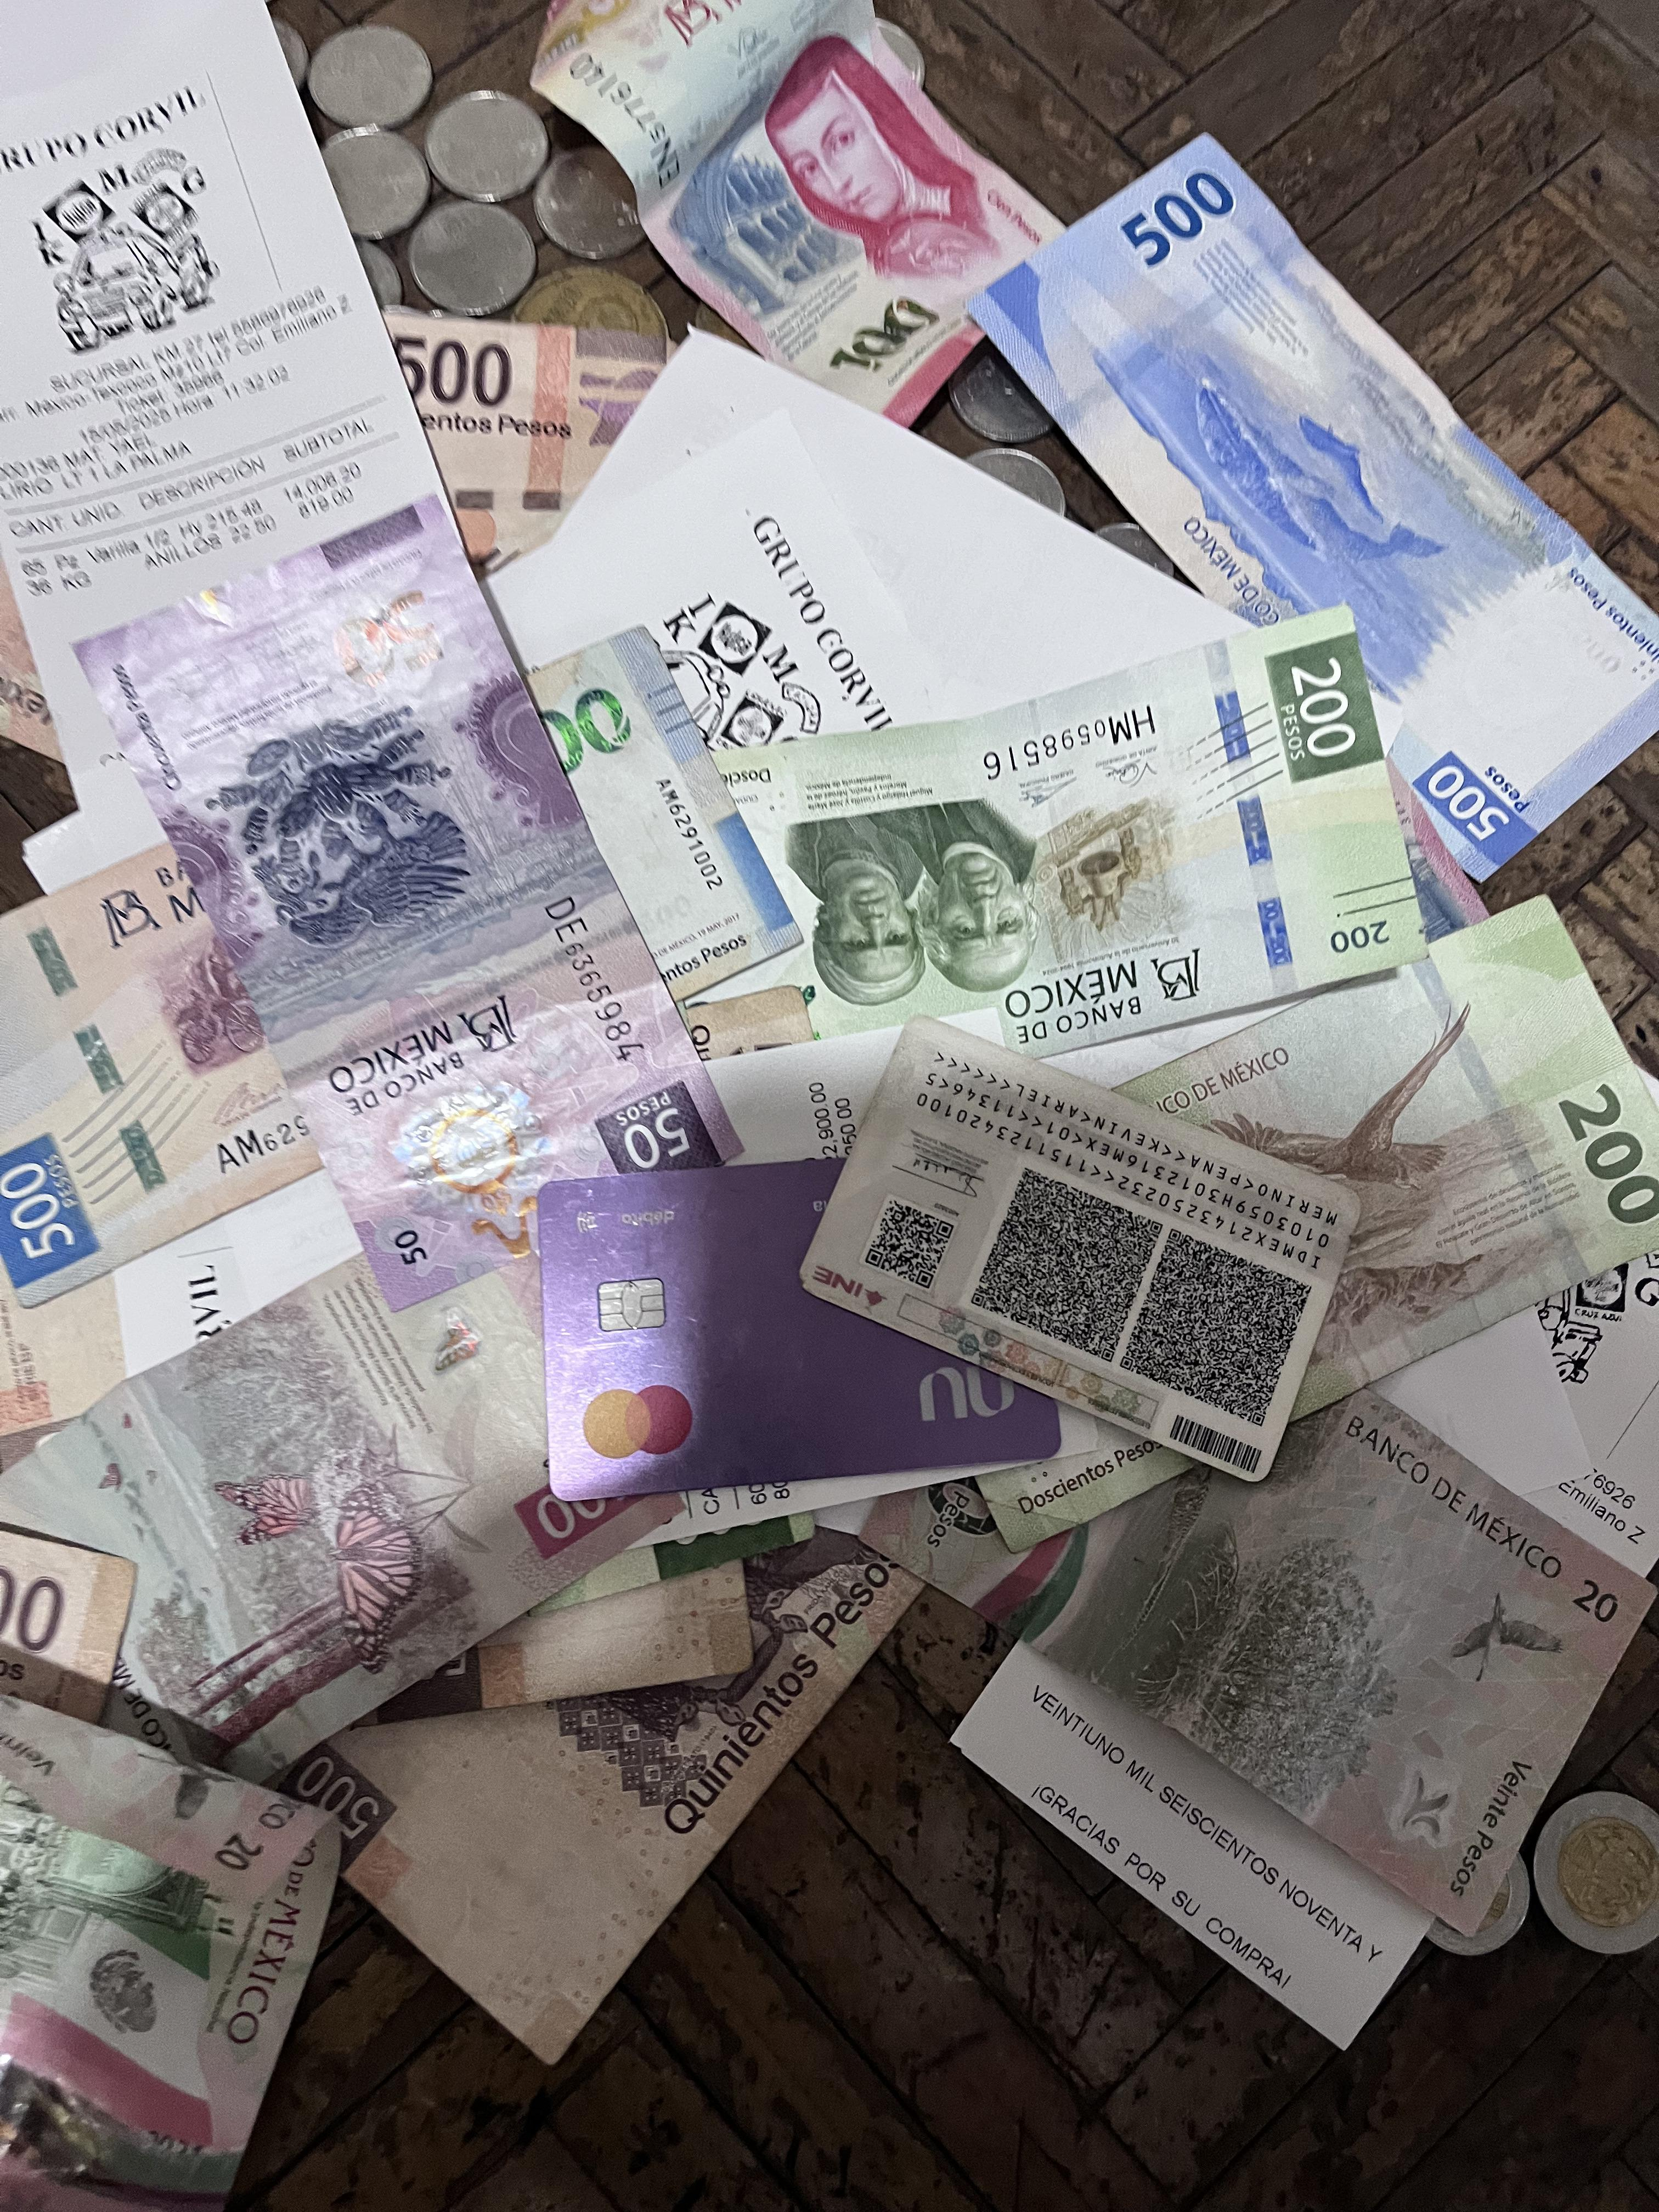100: (0, 1221, 706, 1738), (429, 0, 1079, 477)
20: (878, 1388, 1659, 1942), (0, 1693, 354, 2205)
200: (1033, 873, 1659, 1493), (647, 624, 1434, 1071)
50: (77, 500, 725, 1310)
500: (223, 1508, 938, 2076), (326, 294, 756, 604)
500 nuevo: (965, 134, 1659, 885), (9, 629, 734, 1325)
